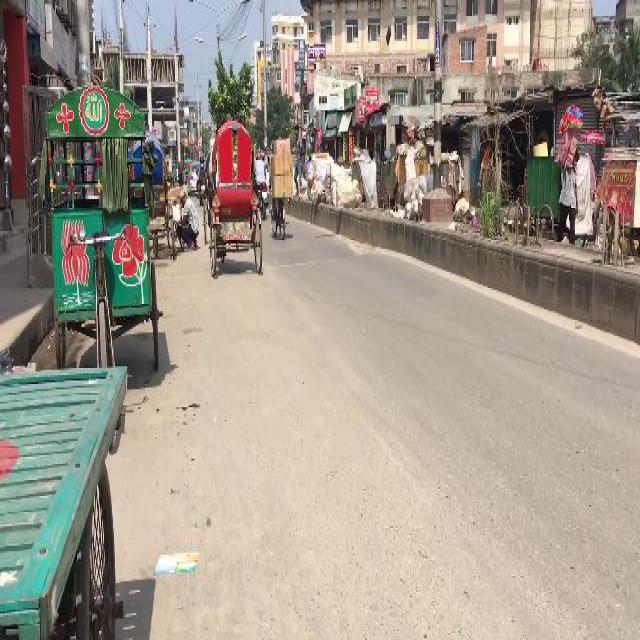bike: (270, 181, 289, 241), (256, 150, 268, 218), (197, 157, 205, 201)
vehicle: (211, 122, 262, 275), (133, 138, 175, 259), (188, 162, 198, 196)
